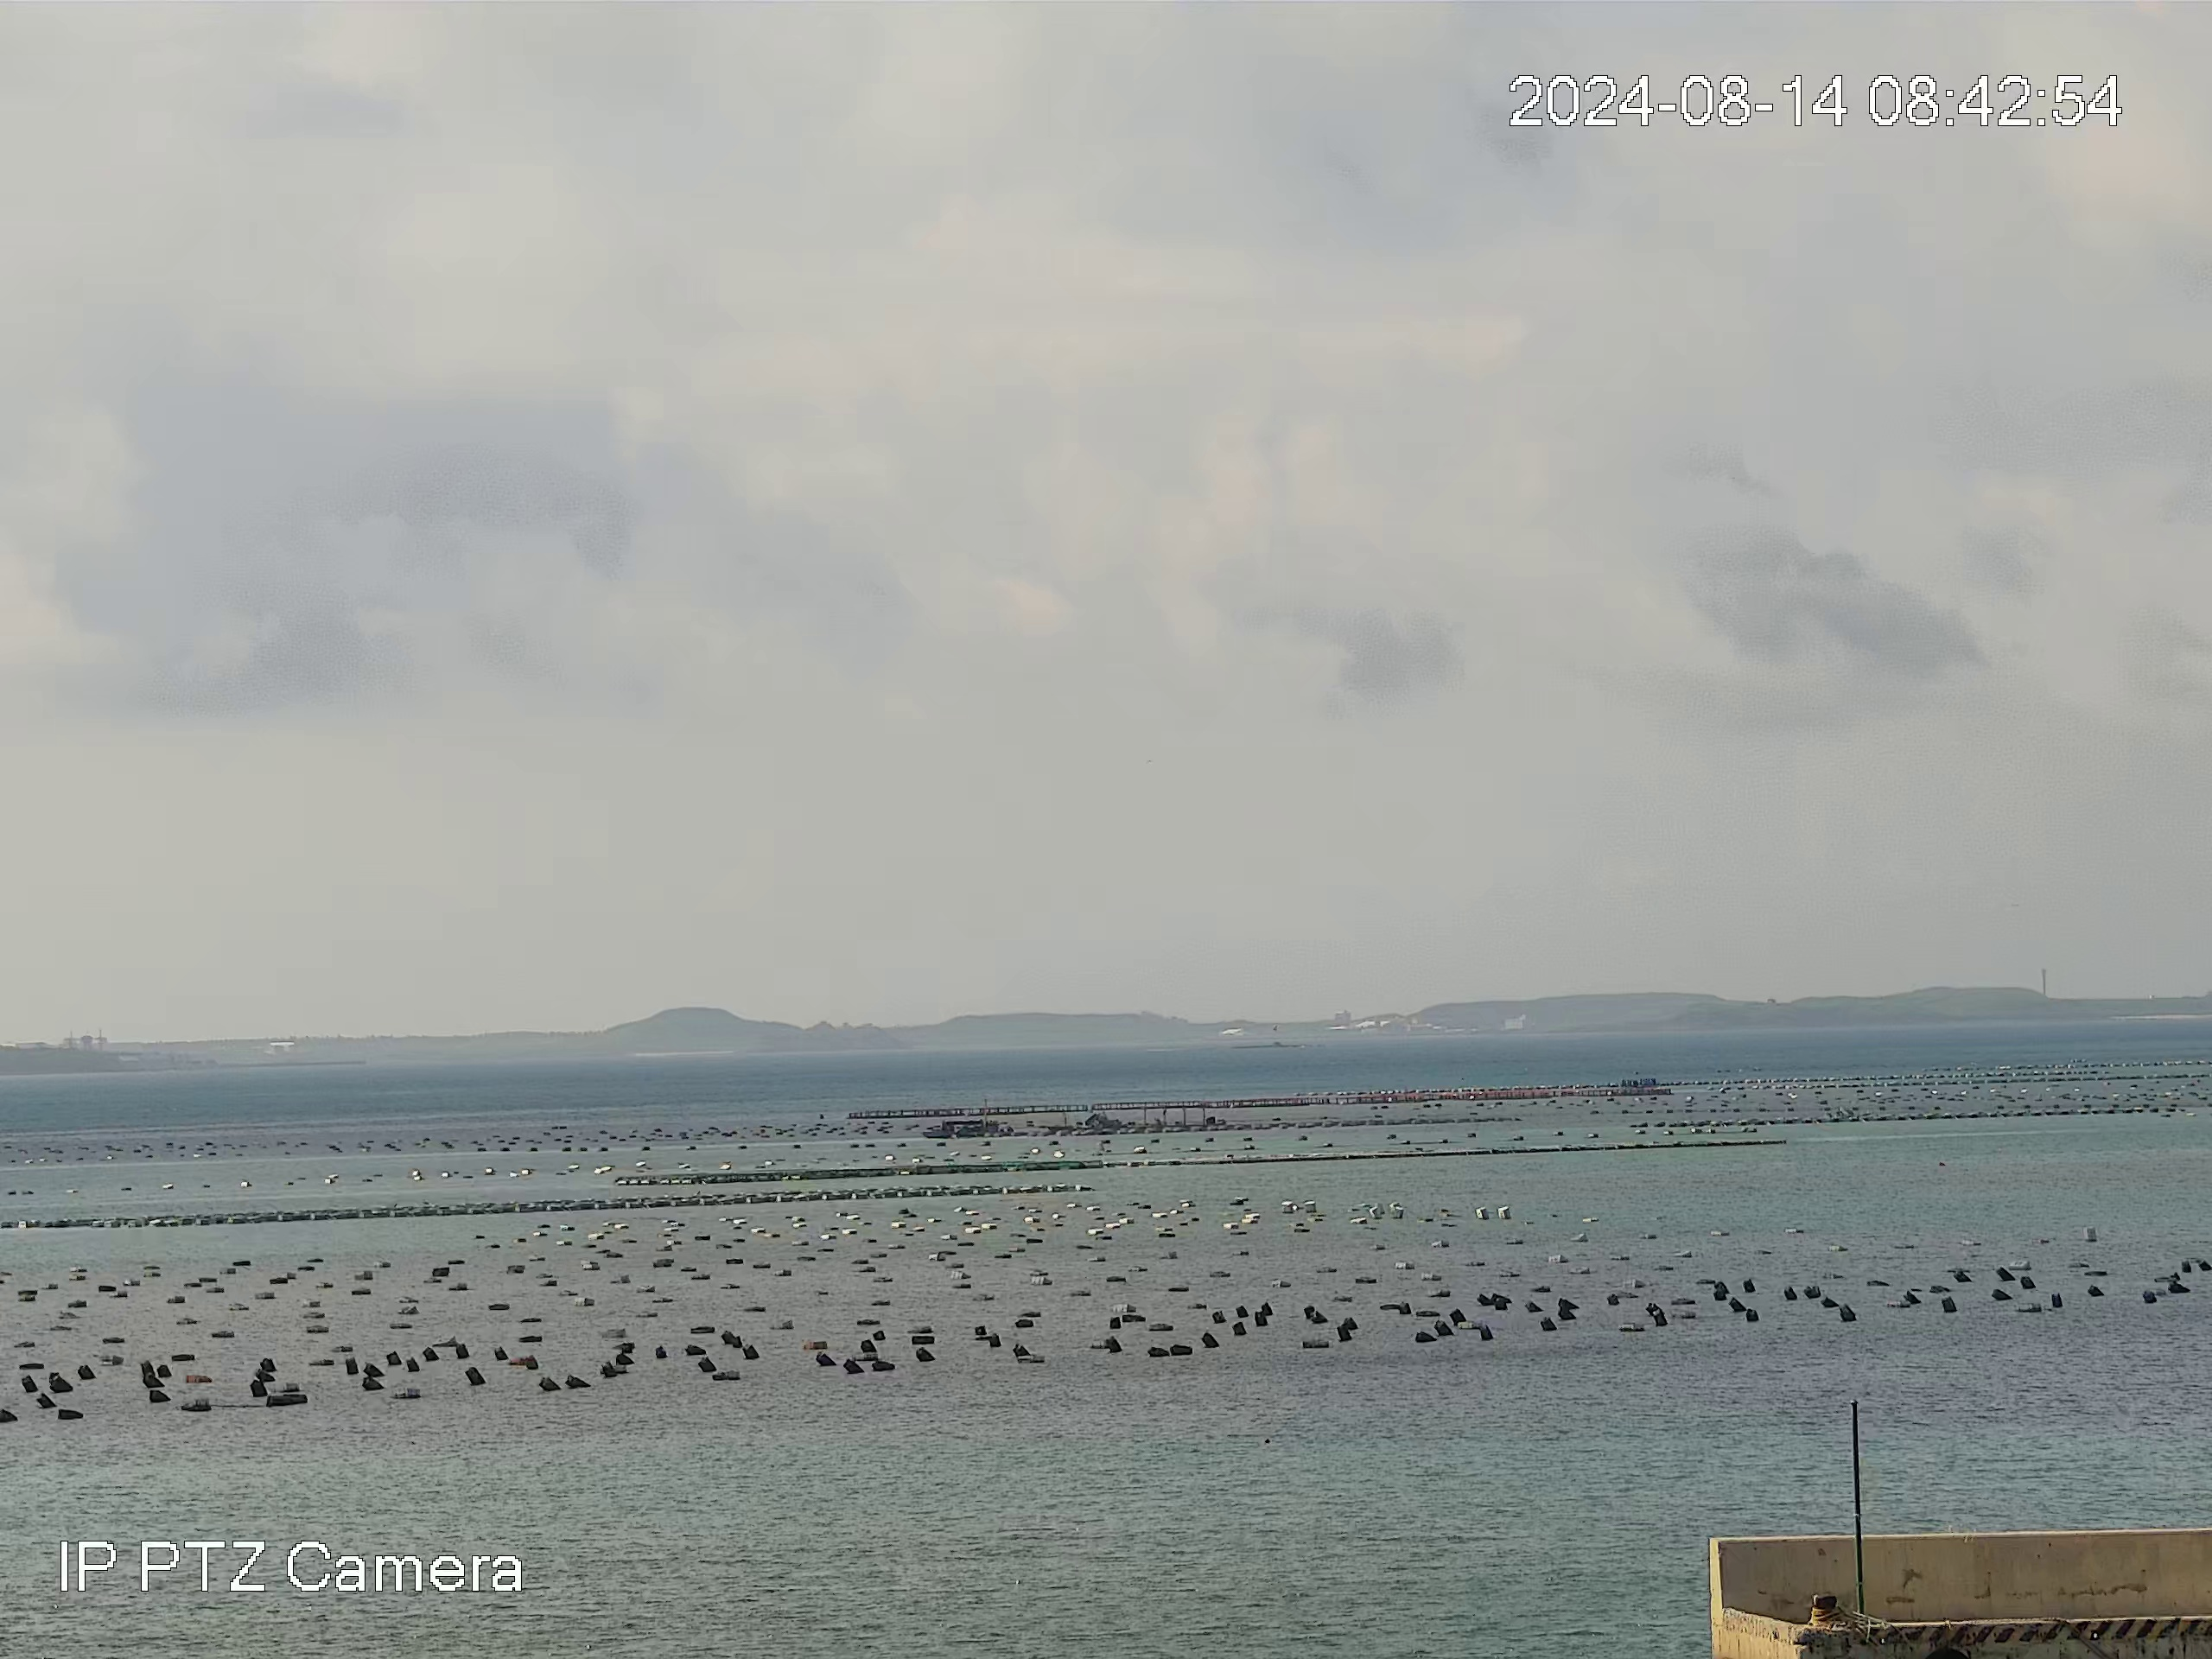boat: (925, 1117, 1005, 1136)
